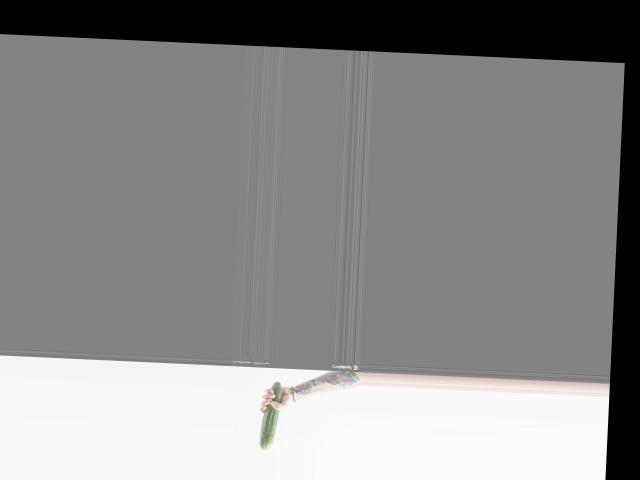cucumber: (258, 381, 282, 450)
